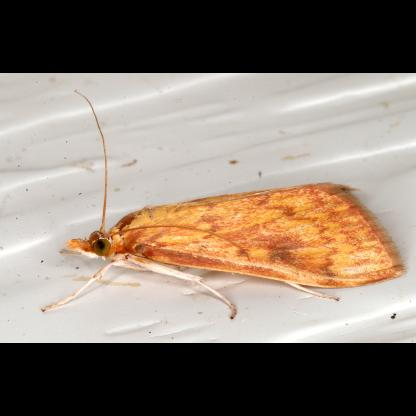Asian Corn Borer Moth: (40, 88, 410, 322)
